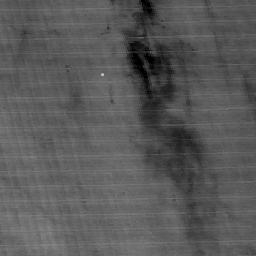Target: (99, 71, 105, 78)
